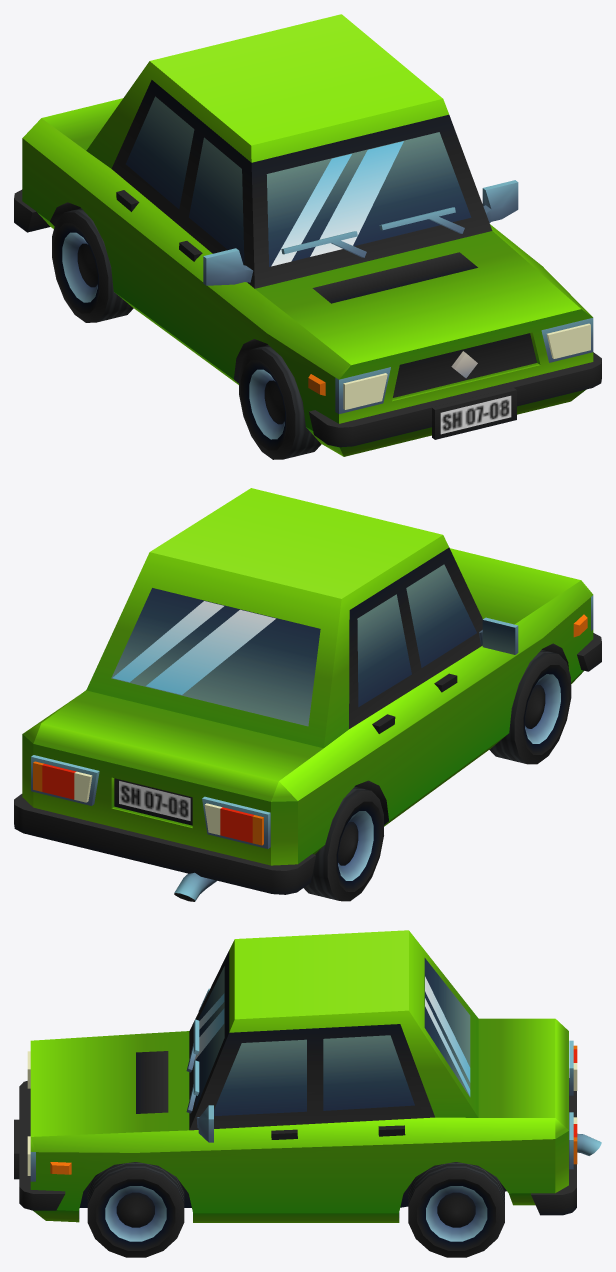
Rendered from sedan.glb.
3 views of the same model, one above another, from view 1: azimuth 30°, elevation 25°; view 2: azimuth 150°, elevation 25°; view 3: azimuth 270°, elevation 25° (orthographic). The views are drawn at different scales.
Visible parts, largest first — view 1: body; view 2: body; view 3: body.
Part boxes in pixels (<box>): body: <box>14,14,601,459</box>; body: <box>14,488,601,901</box>; body: <box>14,930,601,1257</box>.
Size of the model in its own units: 0.964 by 0.7906 by 1.83.
Materials: 2 (2 with a texture image).
